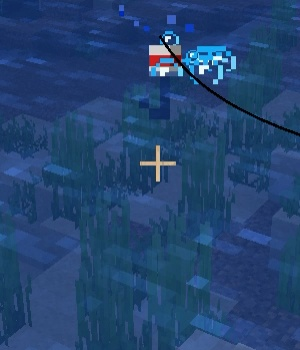up: (139, 38, 183, 118)
